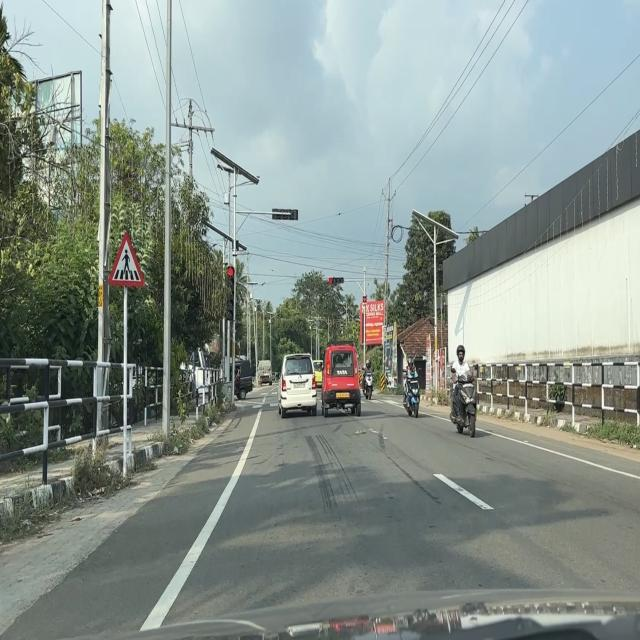PEDESTRIAN_CROSSING: (107, 231, 145, 288)
